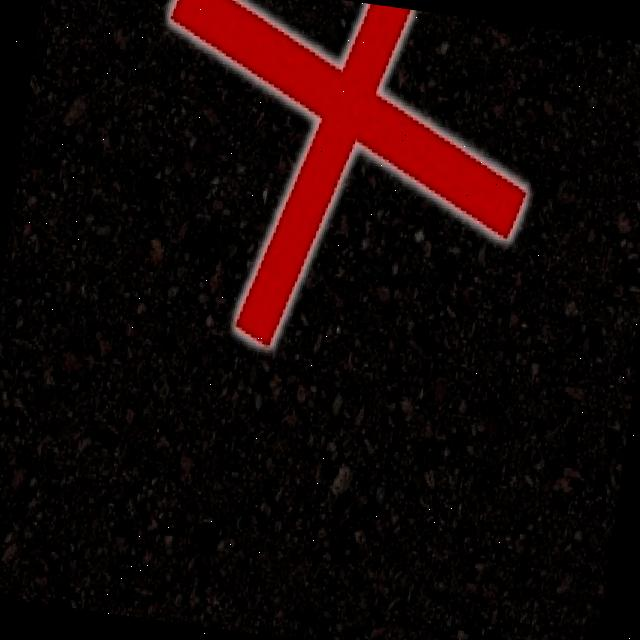x_marker: (126, 0, 547, 377)
